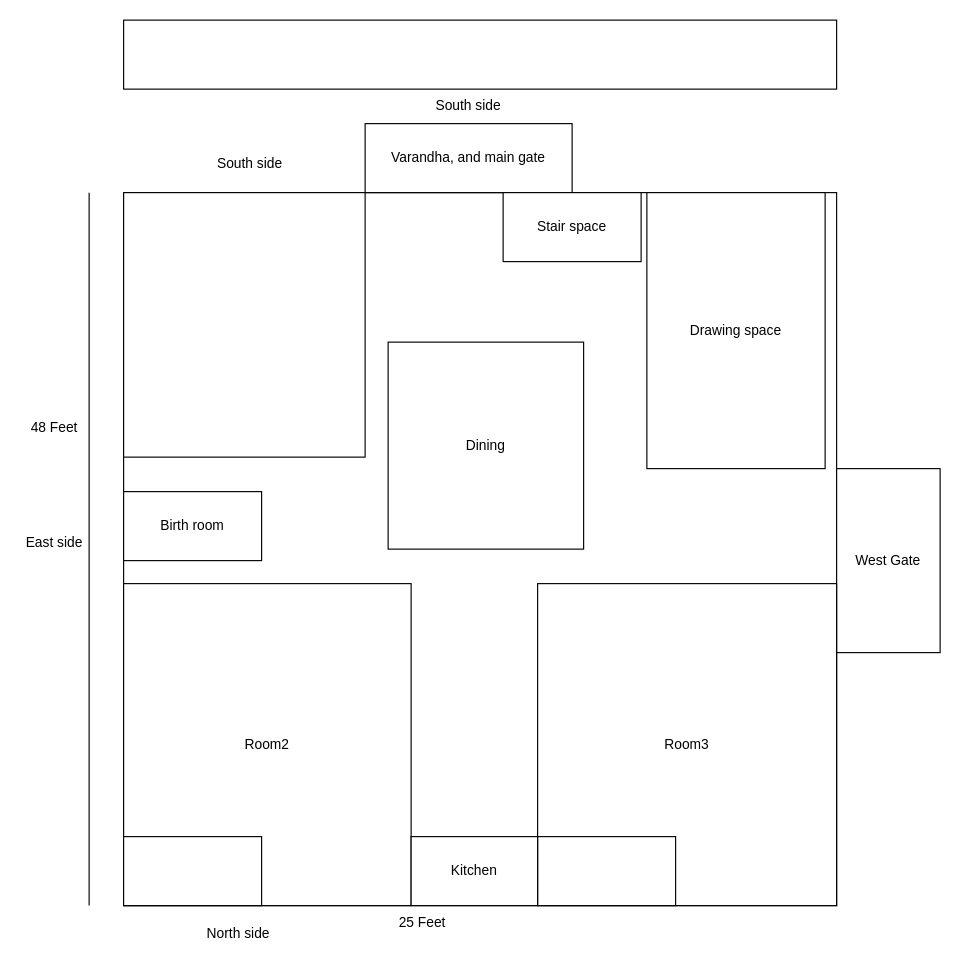
Some shapes in this 960 by 972 pixel diagram are drawn without their labels. The shapes that lost their labels are listed below. From the top down, each one's centre as x and y in pixels, then its label:
At (x=479, y=54): "Road".
At (x=243, y=324): "Room1".
At (x=192, y=870): "Attah birth room".
At (x=606, y=870): "Attach Barth room".
